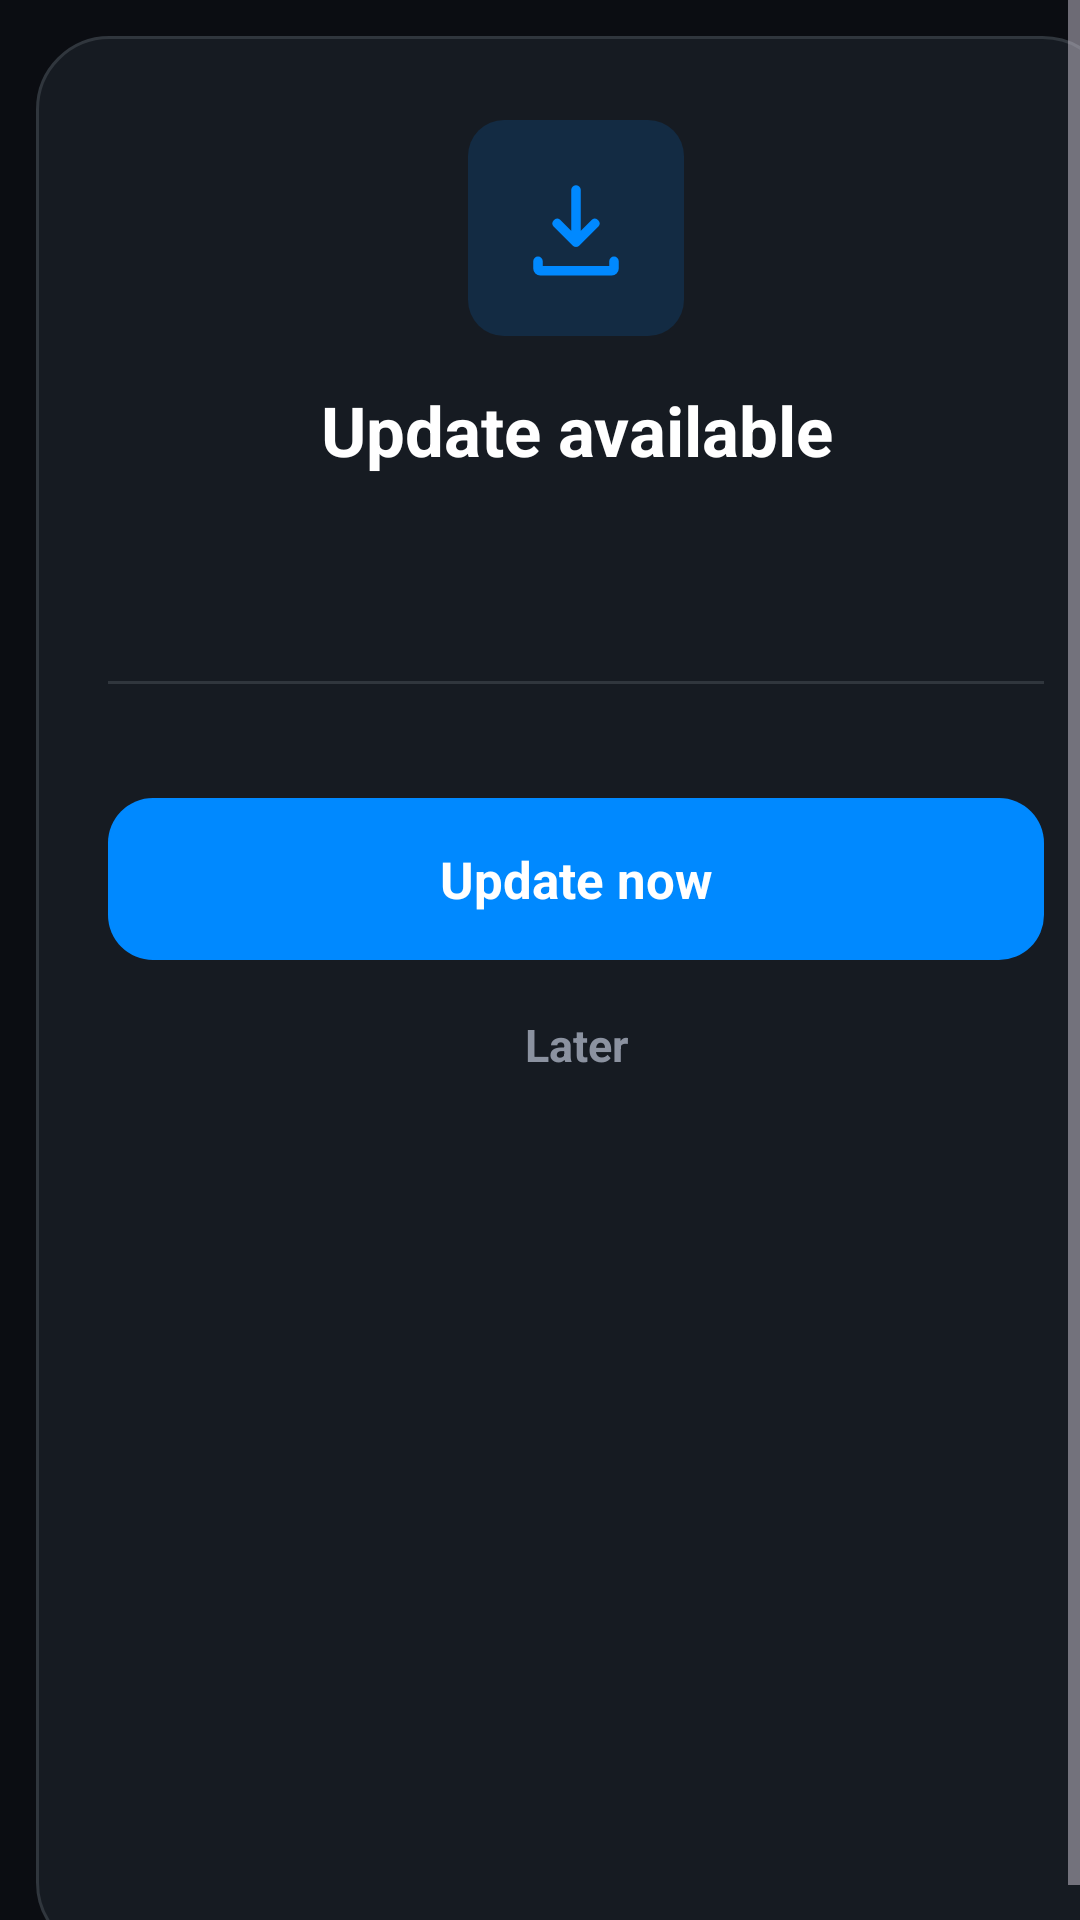

Icons on this 1080×1920 Android screen, each with the point to tap as (x=x, y=y):
download: (x=576, y=230)
